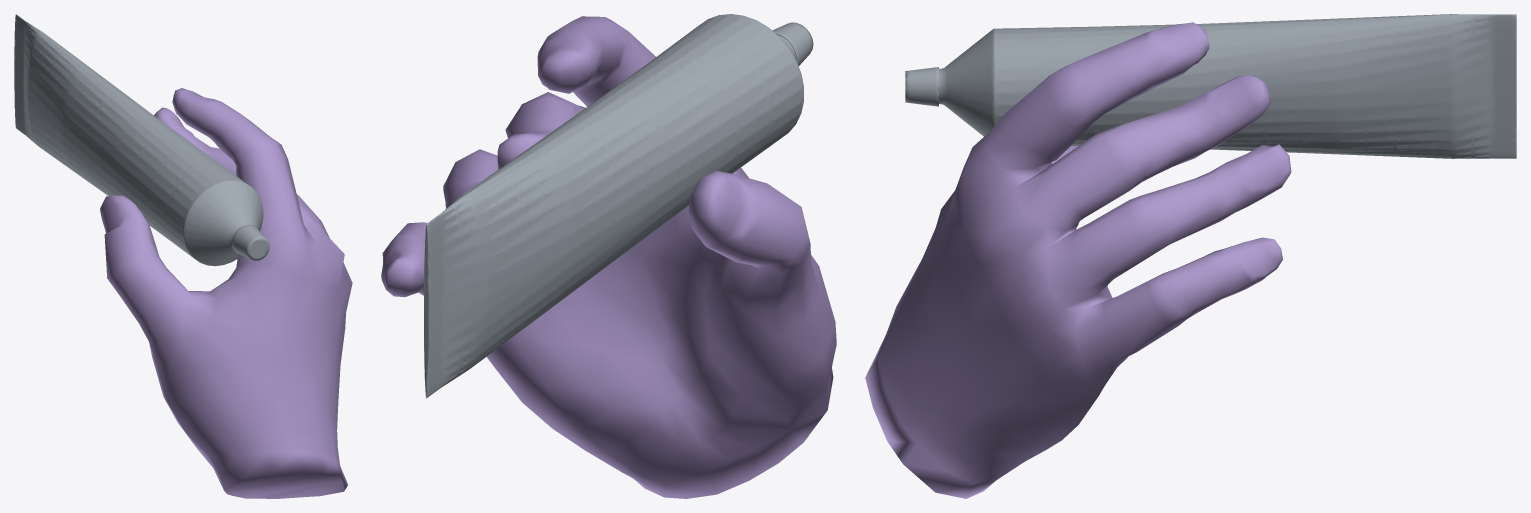
File: grasp_1.glb
3 renders of one model, left to right at view 1: azimuth 30°, elevation 25°; view 2: azimuth 150°, elevation 25°; view 3: azimuth 270°, elevation 25°, orthographic. The views are drawn at different scales.
Size of the model in its own units: 0.114 by 0.1631 by 0.2153.
